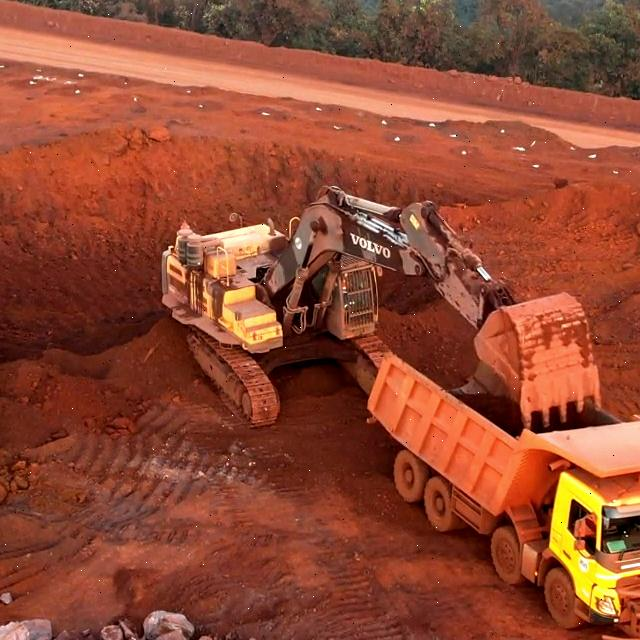Dumper truck: (514, 437, 640, 617)
Excavator: (164, 227, 378, 364)
